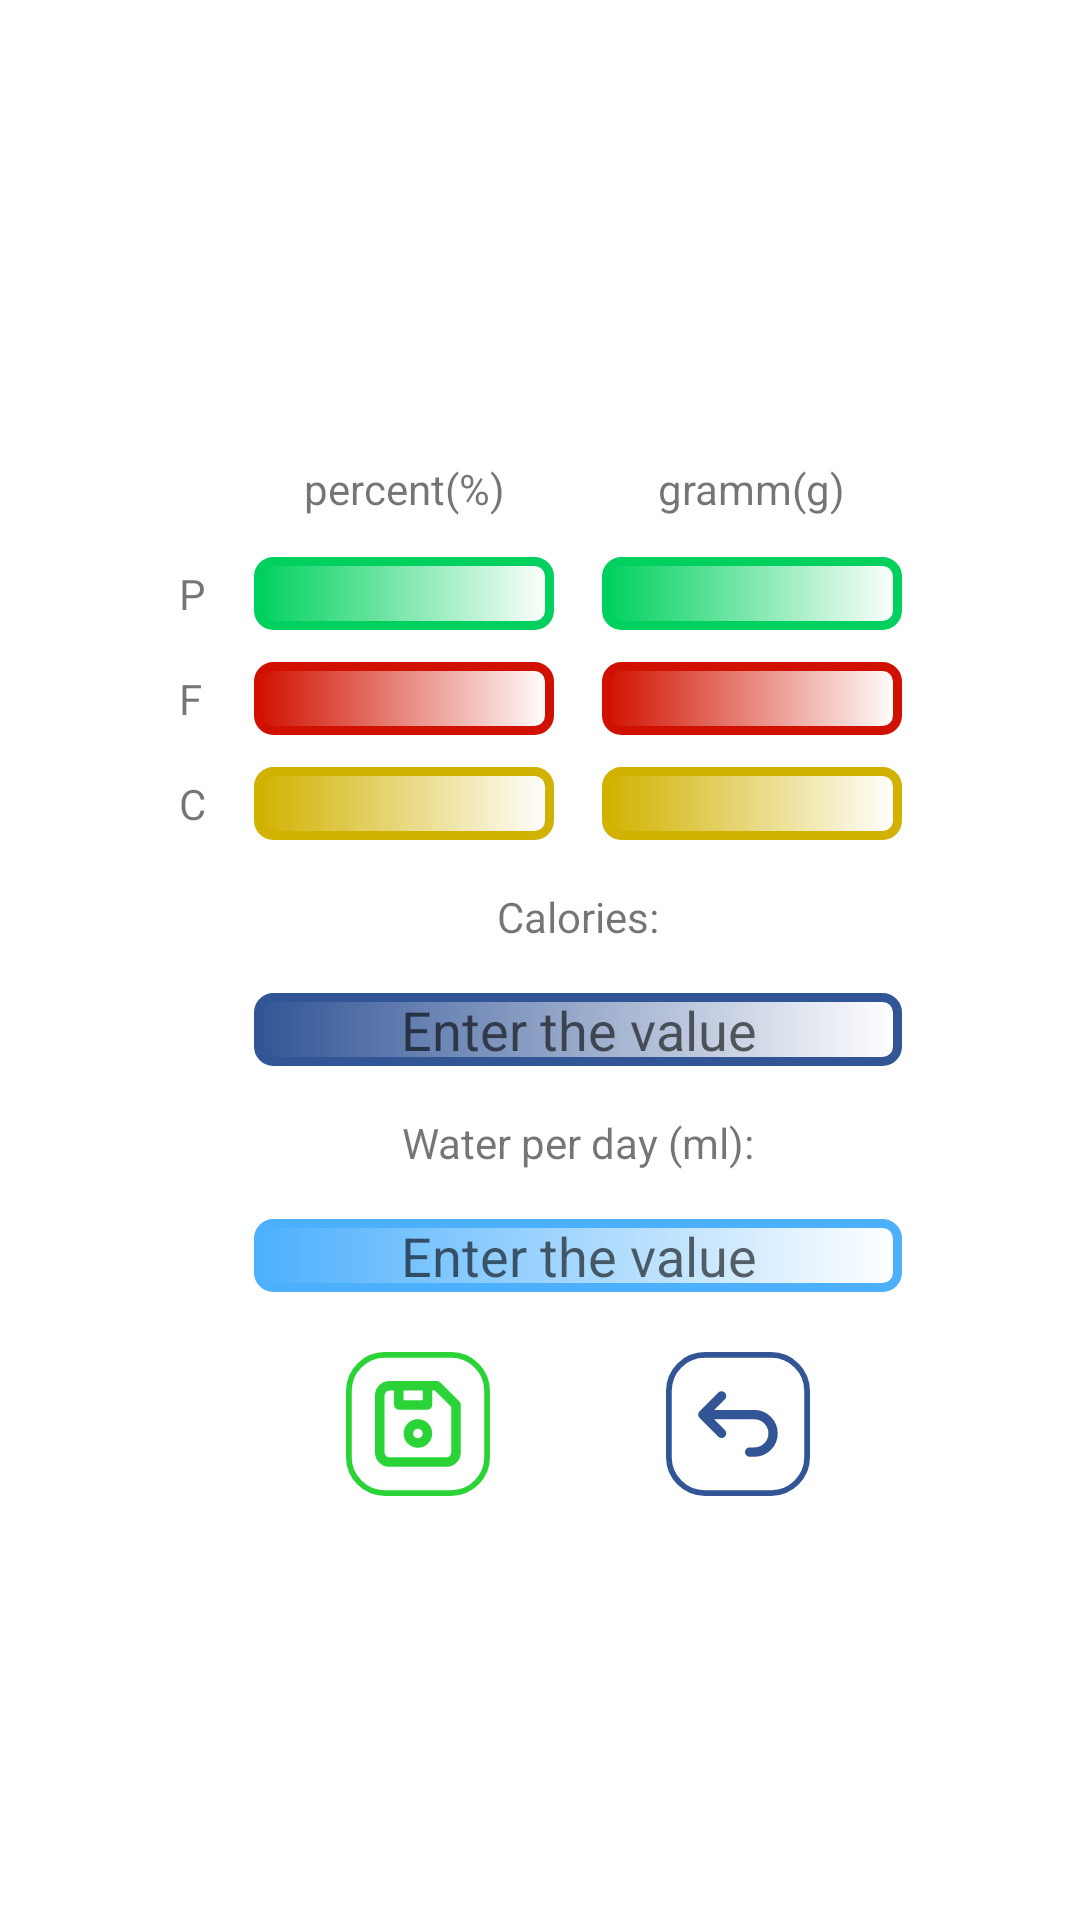

Icon bounding boxes for this 1080 × 1920 phone screenshot, format box=[x1, y1, x2, y2]:
return: box=[666, 1352, 810, 1496]
save: box=[346, 1352, 490, 1496]
